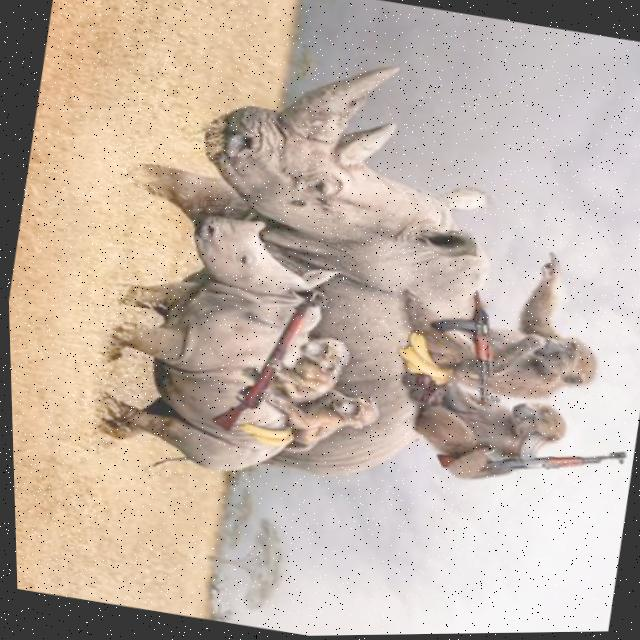firearm: (202, 288, 318, 444), (427, 414, 627, 502), (412, 283, 517, 409)
